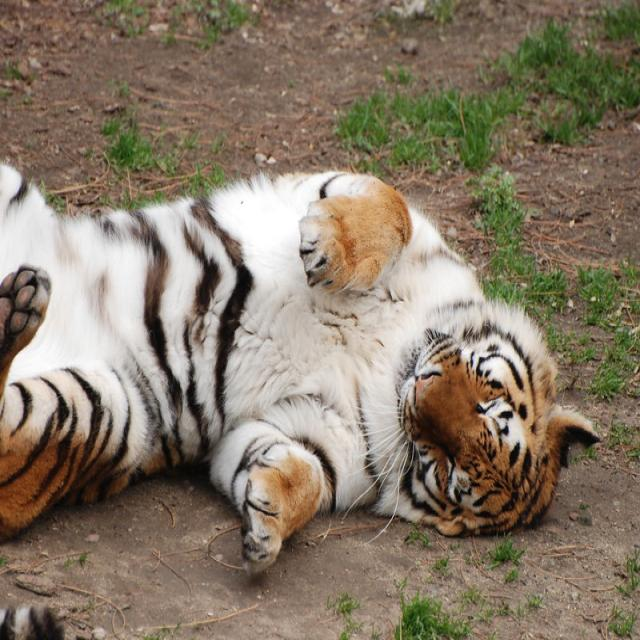Tiger: (0, 161, 600, 566)
